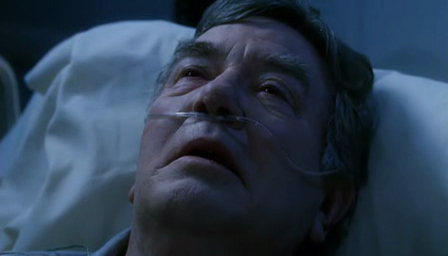ecu: (1, 1, 448, 256)
face: (123, 25, 336, 234)
person: (1, 1, 375, 255)
